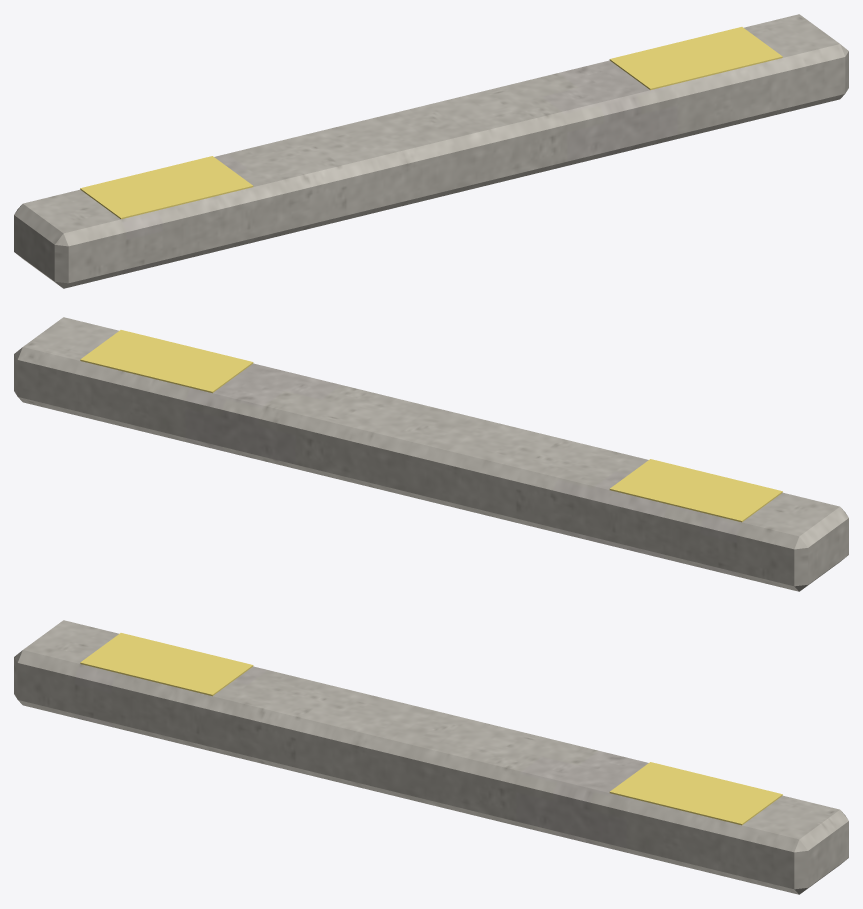
The model's file is wheel_stop.glb.
3 renders of one model, top to bottom at view 1: azimuth 30°, elevation 25°; view 2: azimuth 150°, elevation 25°; view 3: azimuth 330°, elevation 25°, orthographic.
Parts seen in each view (by area): view 1: wheel_stop_concrete, wheel_stop_paint_y; view 2: wheel_stop_concrete, wheel_stop_paint_y; view 3: wheel_stop_concrete, wheel_stop_paint_y.
Boxes of the visible parts, left/top/right/bottom form: wheel_stop_concrete: left=14, top=14, right=848, bottom=288; wheel_stop_paint_y: left=80, top=27, right=782, bottom=219; wheel_stop_concrete: left=14, top=317, right=848, bottom=591; wheel_stop_paint_y: left=80, top=330, right=782, bottom=522; wheel_stop_concrete: left=14, top=620, right=848, bottom=894; wheel_stop_paint_y: left=80, top=633, right=782, bottom=825.
Bounding box in the file's own units: 1.8 × 0.123 × 0.2.
Materials: 2 (1 with a texture image).
